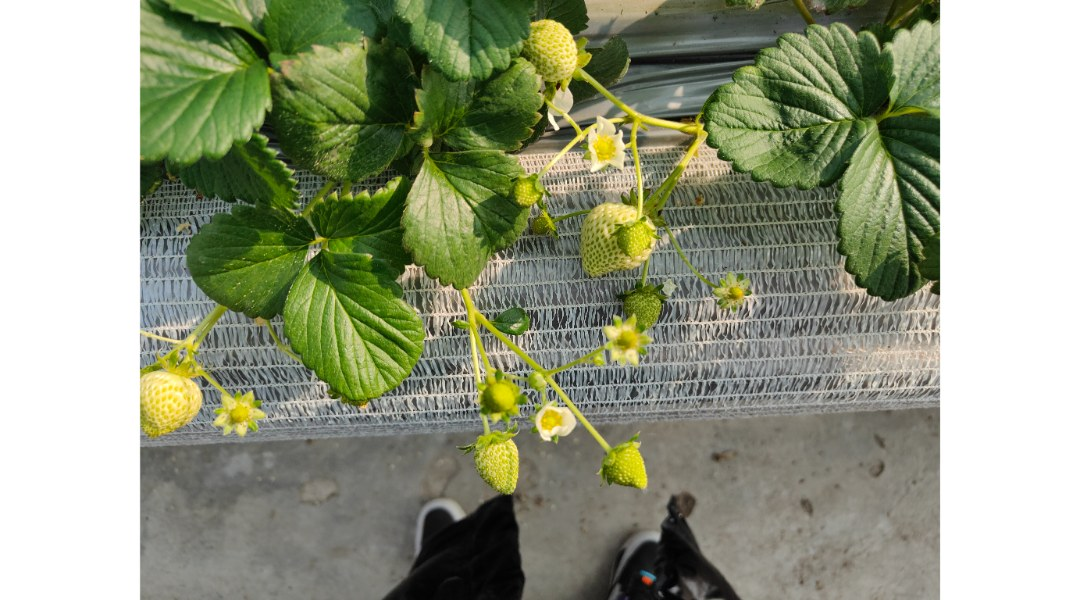berry: (120, 366, 207, 449), (580, 191, 655, 280), (524, 3, 581, 90), (465, 424, 525, 500), (595, 436, 661, 498), (597, 313, 650, 376), (474, 364, 531, 422), (212, 387, 270, 434), (706, 263, 754, 314), (607, 217, 652, 259), (509, 171, 549, 218)
flower: (578, 114, 622, 178), (534, 403, 584, 443)
strain: (552, 378, 612, 452), (486, 315, 542, 366), (580, 71, 631, 108), (538, 142, 577, 180), (629, 126, 645, 213), (461, 317, 481, 376), (646, 120, 688, 134)
